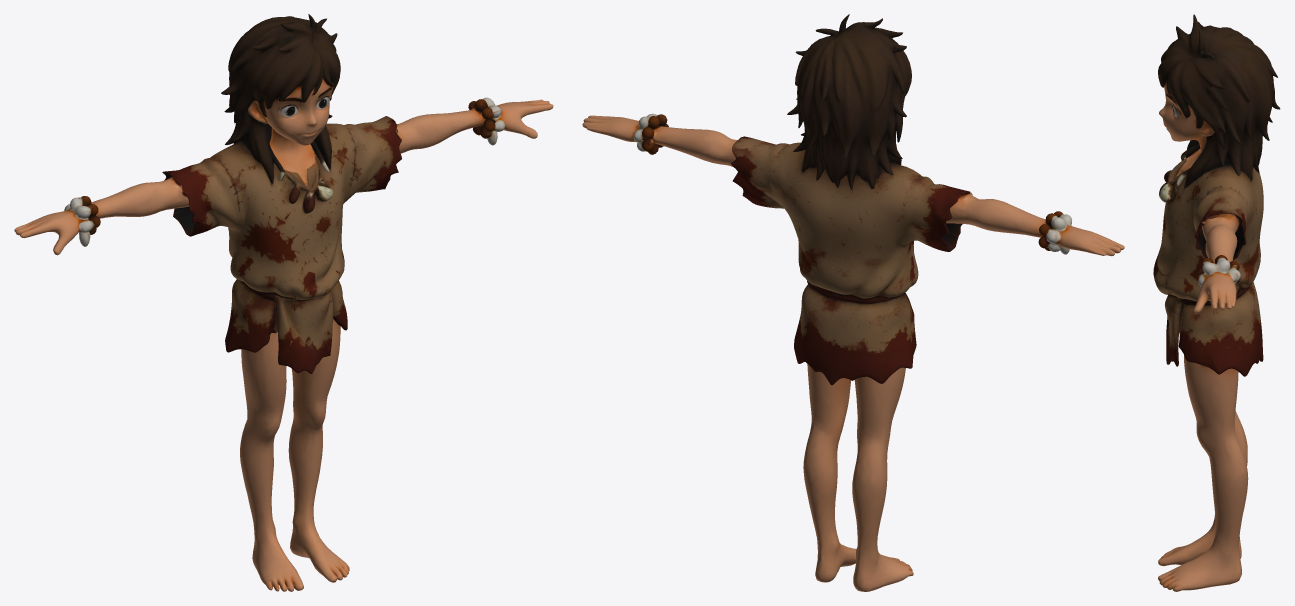
File: Cano (1).fbx
The picture shows the model from 3 angles, left to right: view 1: azimuth 30°, elevation 25°; view 2: azimuth 150°, elevation 25°; view 3: azimuth 270°, elevation 25°; orthographic projection.
Visible parts, largest first — view 1: tripo_node_94f5a391; view 2: tripo_node_94f5a391; view 3: tripo_node_94f5a391.
Boxes of the visible parts, bbox=[...] form: tripo_node_94f5a391: bbox=[14, 14, 553, 591]; tripo_node_94f5a391: bbox=[582, 14, 1124, 591]; tripo_node_94f5a391: bbox=[1153, 14, 1280, 591].
Size of the model in its own units: 99.88 by 20.87 by 99.73.
Materials: 1 (1 with a texture image).
